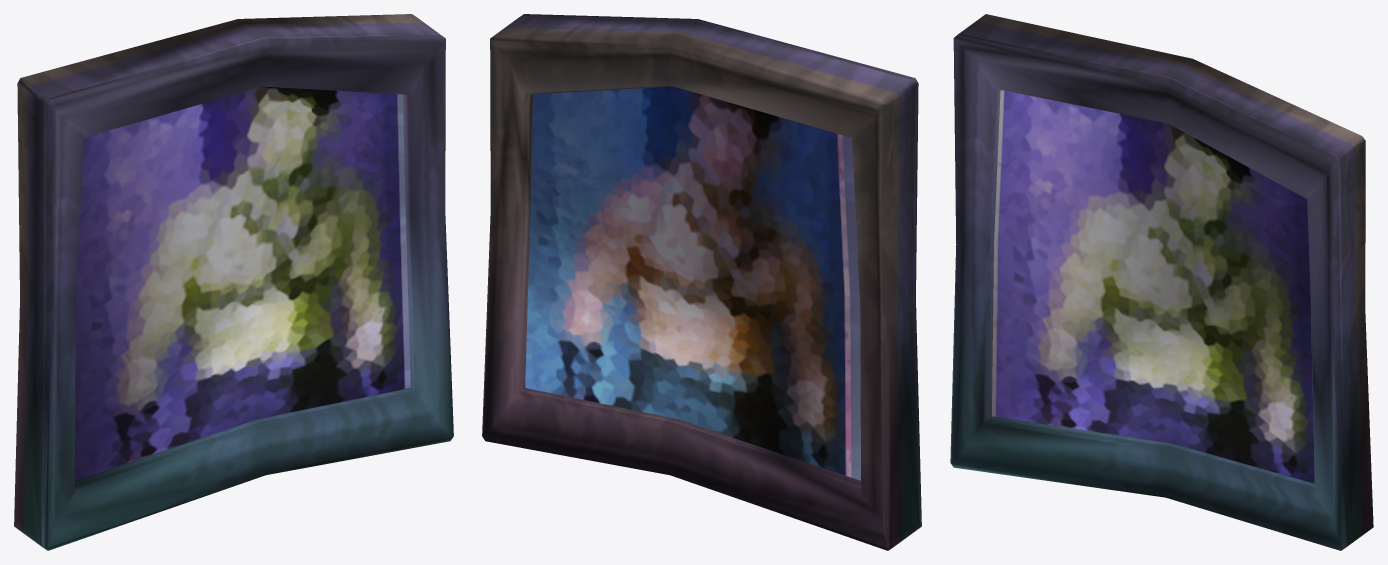
File: Square Small Portrait Painting.fbx
3 views of the same model, side by side, from view 1: azimuth 30°, elevation 25°; view 2: azimuth 150°, elevation 25°; view 3: azimuth 330°, elevation 25° (orthographic). The views are drawn at different scales.
Visible parts, largest first — view 1: pCube33; view 2: pCube33; view 3: pCube33.
Part boxes in pixels (bbox=[...]): pCube33: bbox=[14, 14, 453, 550]; pCube33: bbox=[482, 14, 921, 550]; pCube33: bbox=[950, 14, 1373, 550].
Bounding box in the file's own units: 112 × 119 × 15.55.
